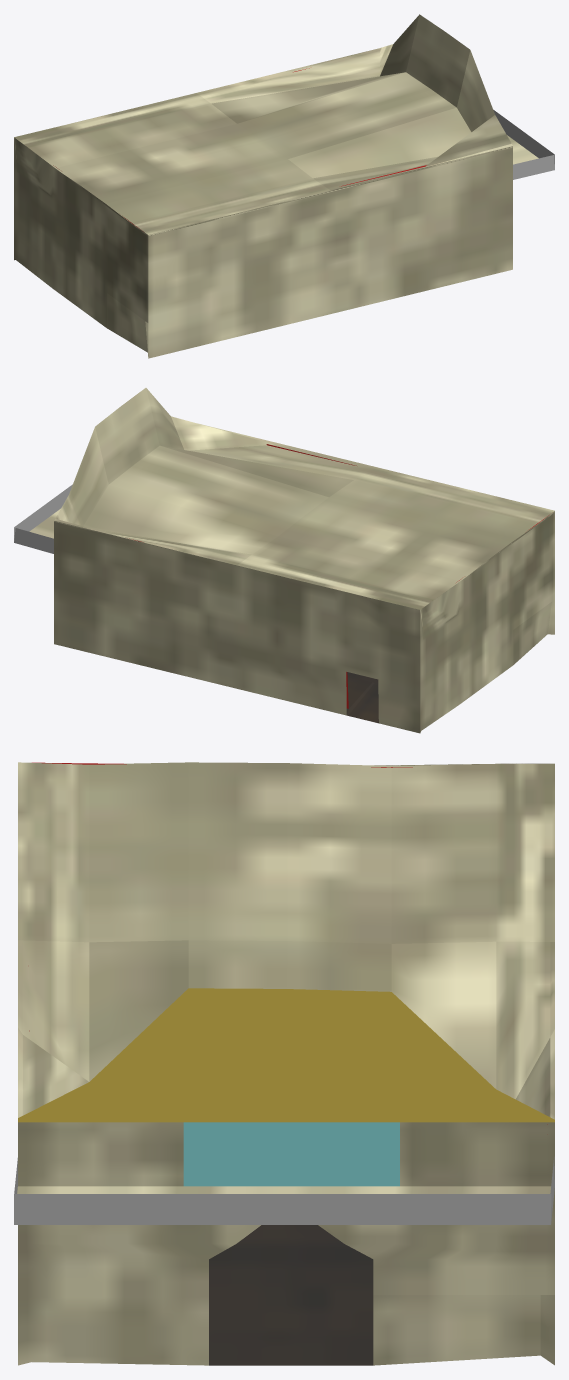
Rendered from Building.fbx.
The picture shows the model from 3 angles, top to bottom: view 1: azimuth 30°, elevation 25°; view 2: azimuth 150°, elevation 25°; view 3: azimuth 270°, elevation 25°; orthographic projection. The views are drawn at different scales.
Visible parts, largest first — view 1: Building; view 2: Building; view 3: Building.
Boxes of the visible parts, left/top/right/bottom form: Building: left=14, top=14, right=554, bottom=358; Building: left=14, top=388, right=554, bottom=733; Building: left=14, top=762, right=554, bottom=1365.
Size of the model in its own units: 349 by 155 by 201.
